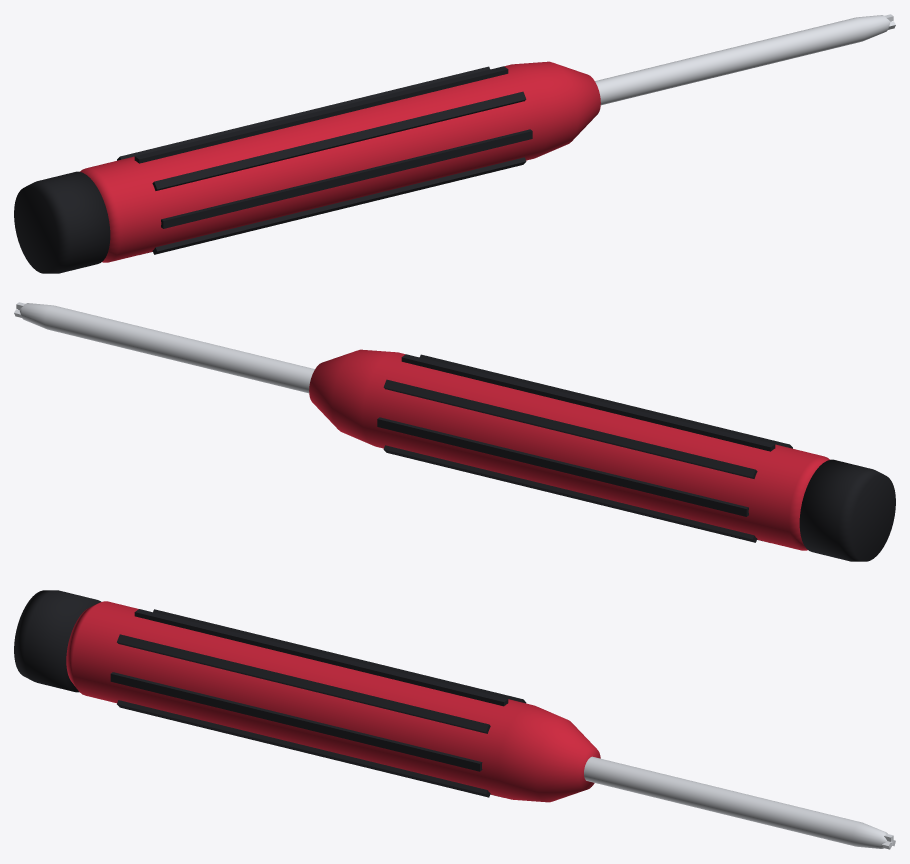
The model's file is screwdriver.glb.
The picture shows the model from 3 angles, top to bottom: view 1: azimuth 30°, elevation 25°; view 2: azimuth 150°, elevation 25°; view 3: azimuth 330°, elevation 25°; orthographic projection.
Visible parts, largest first — view 1: handle, cap, steel; view 2: handle, cap, steel; view 3: handle, cap, steel.
Boxes of the visible parts, x1,y1,x2,y2 form: handle: (80, 61, 600, 262); cap: (14, 66, 532, 273); steel: (595, 14, 895, 105); handle: (309, 349, 829, 550); cap: (377, 354, 895, 561); steel: (14, 302, 314, 393); handle: (66, 601, 600, 802); cap: (14, 590, 526, 797); steel: (584, 756, 895, 849).
Bounding box in the file's own units: 102 × 10.9 × 10.9.
